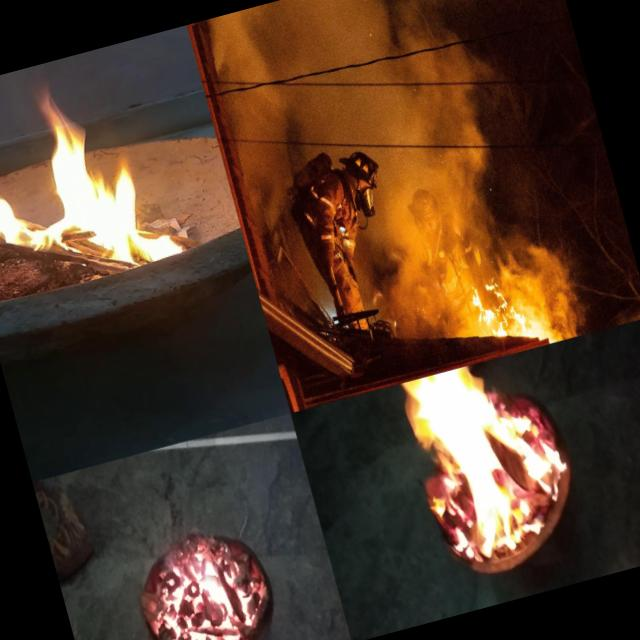fire: (0, 45, 193, 311), (382, 348, 580, 574), (136, 519, 278, 640), (482, 278, 572, 356)
smoke: (331, 0, 526, 245), (201, 0, 373, 182), (391, 200, 594, 320)
